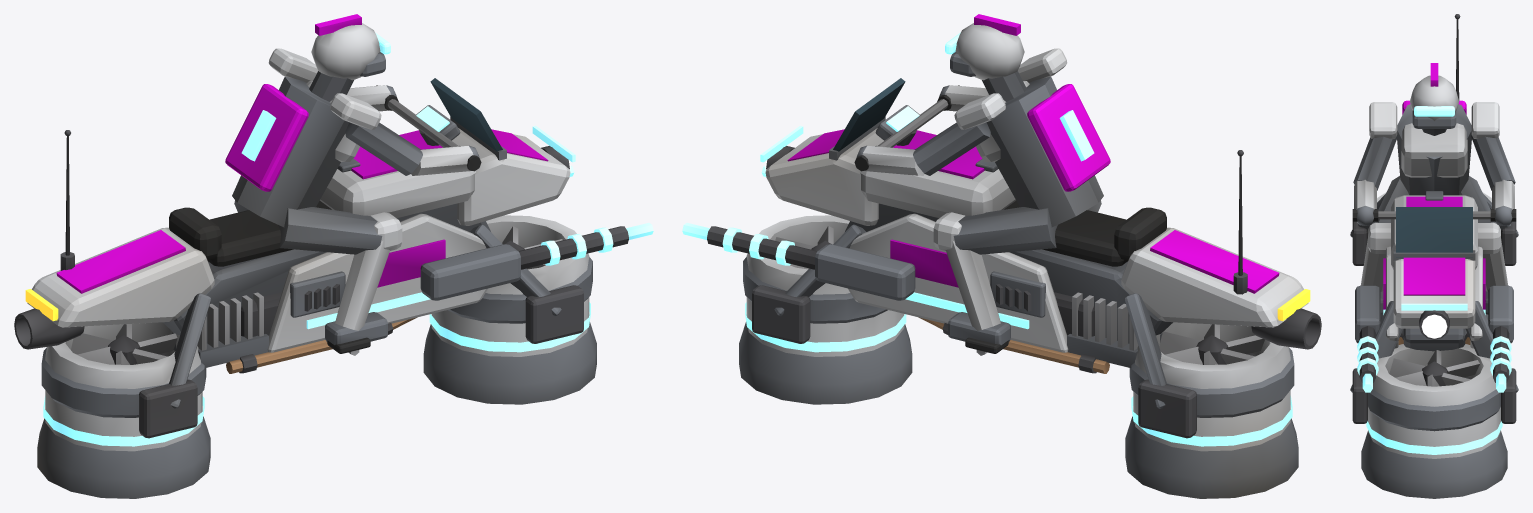
File: hover_bike.glb
3 views of the same model, side by side, from view 1: azimuth 30°, elevation 25°; view 2: azimuth 150°, elevation 25°; view 3: azimuth 270°, elevation 25° (orthographic). The views are drawn at different scales.
Parts seen in each view (by area): view 1: Body; view 2: Body; view 3: Body.
Part boxes in pixels (left/top/right/bottom): Body: left=14, top=14, right=653, bottom=498; Body: left=682, top=14, right=1321, bottom=498; Body: left=1350, top=14, right=1518, bottom=498.
Size of the model in its own units: 2.22 by 1.4 by 0.6576.
Materials: 1 (1 with a texture image).
